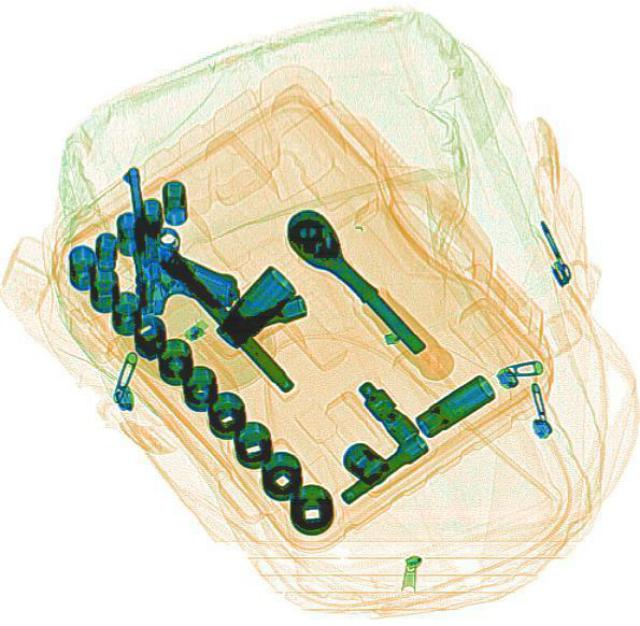Gun: (119, 159, 237, 313)
